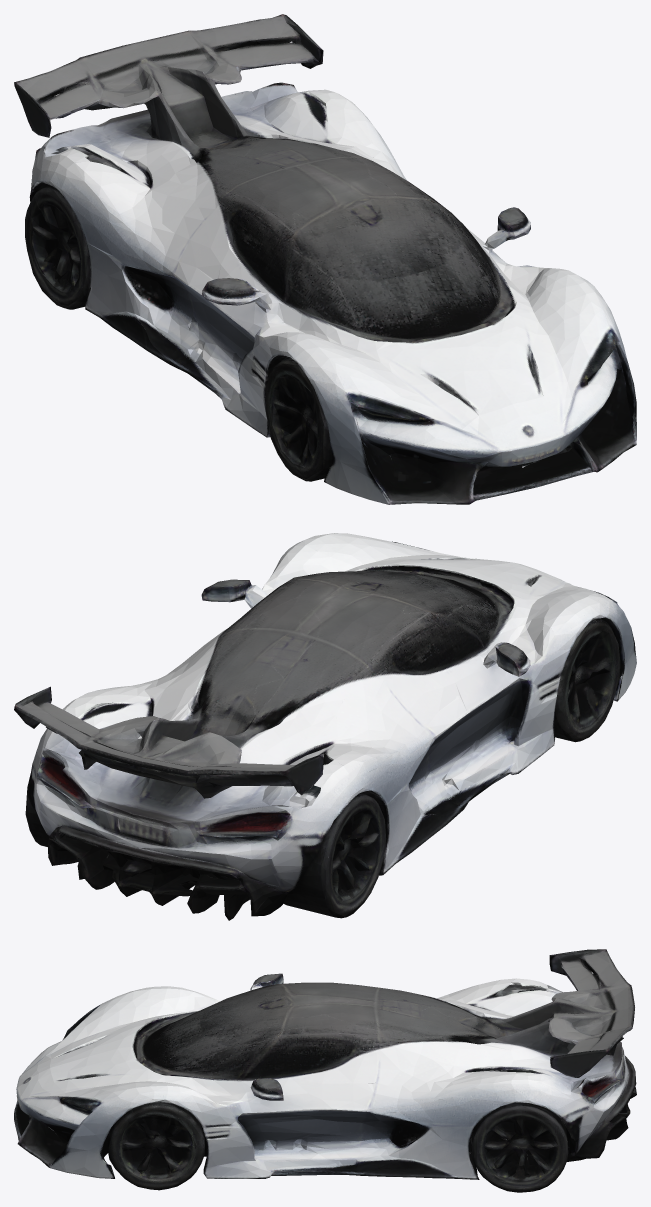
3 views of the same model, one above another, from view 1: azimuth 30°, elevation 25°; view 2: azimuth 150°, elevation 25°; view 3: azimuth 270°, elevation 25° (orthographic). The views are drawn at different scales.
Parts seen in each view (by area): view 1: world; view 2: world; view 3: world.
Part boxes in pixels (left/top/right/bottom): world: left=14, top=14, right=636, bottom=504; world: left=14, top=533, right=636, bottom=920; world: left=14, top=949, right=636, bottom=1192.
Size of the model in its own units: 0.4554 by 0.2454 by 0.9959.
Materials: 1 (1 with a texture image).
